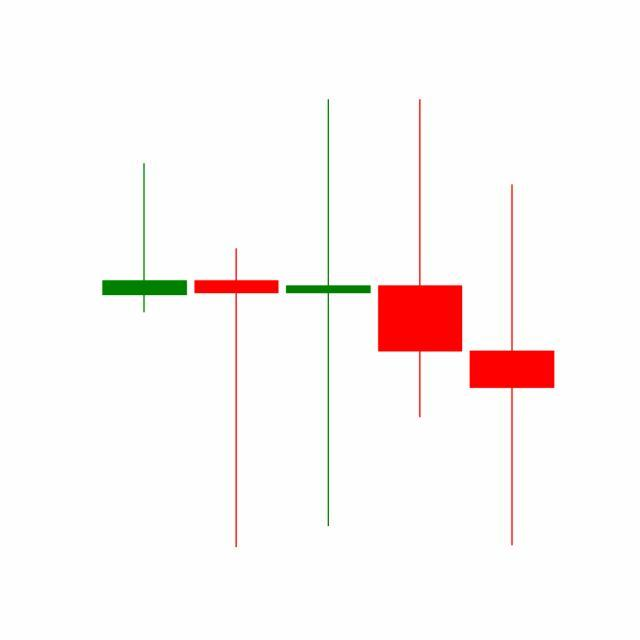Spinning Top: (374, 96, 468, 422)
